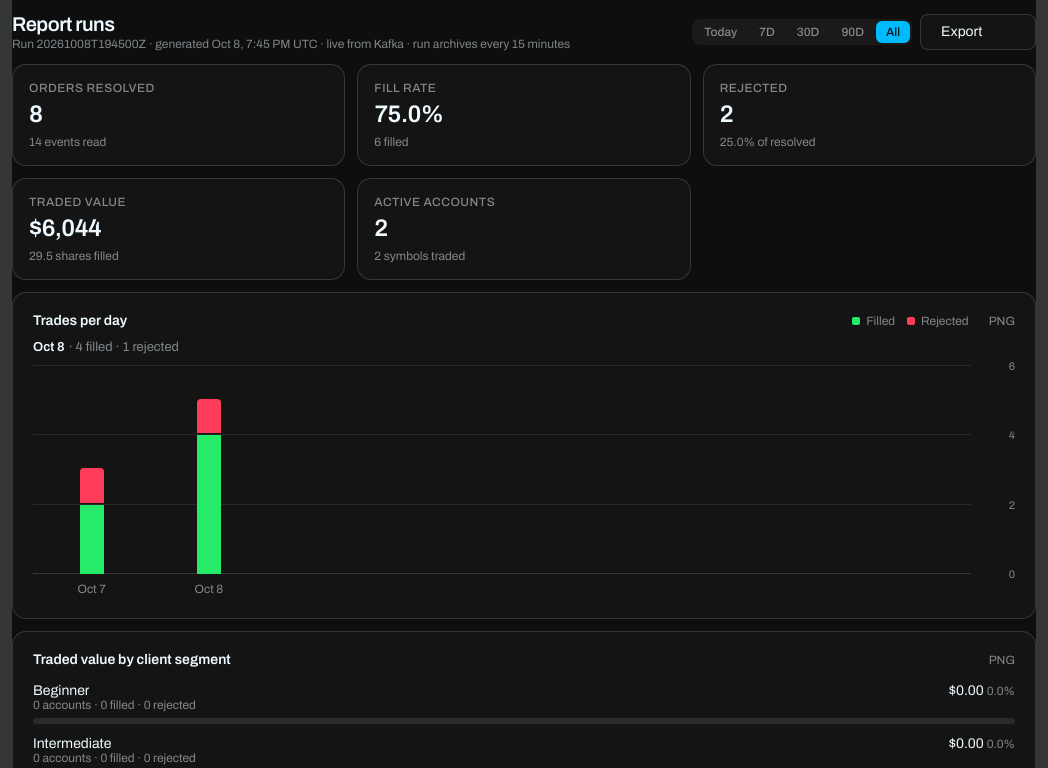
Test: RunsComponent › says a download failed when no newer run has the chart either
This screenshot has width=1048, height=768.
Click the button "PNG" in the row of "Trades per day": (1000, 320) [985,314,1015,328]
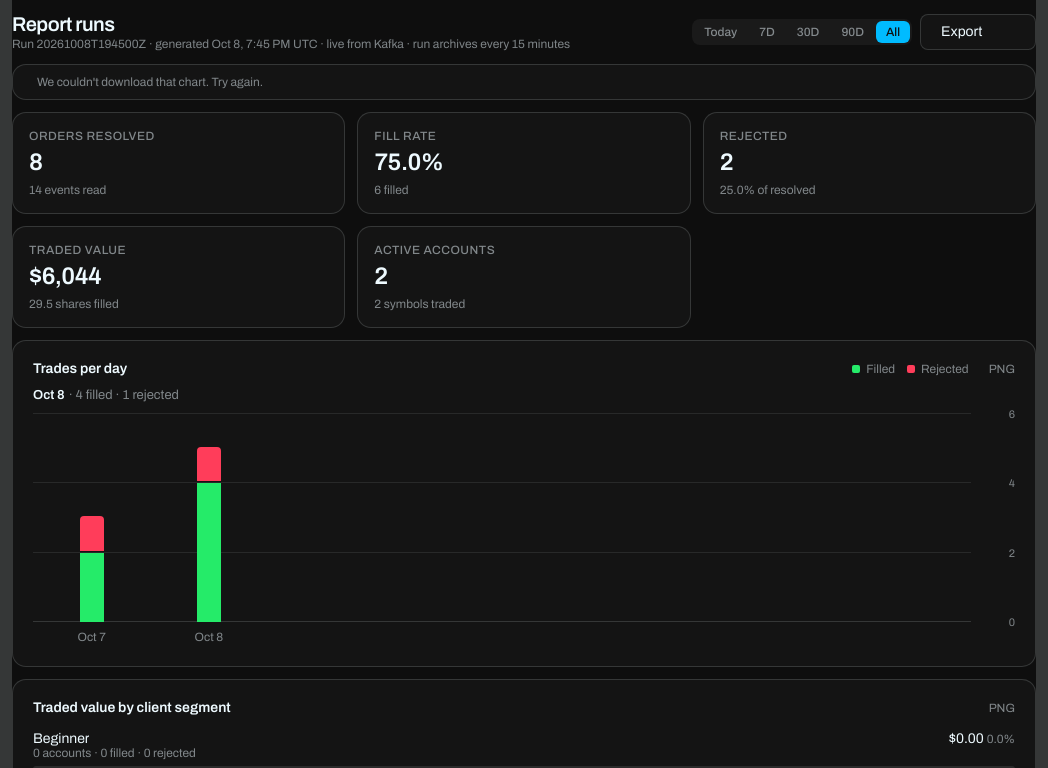
Expected: the message "We couldn't download that chart. Try again." is shown, [12,64,1036,100]
